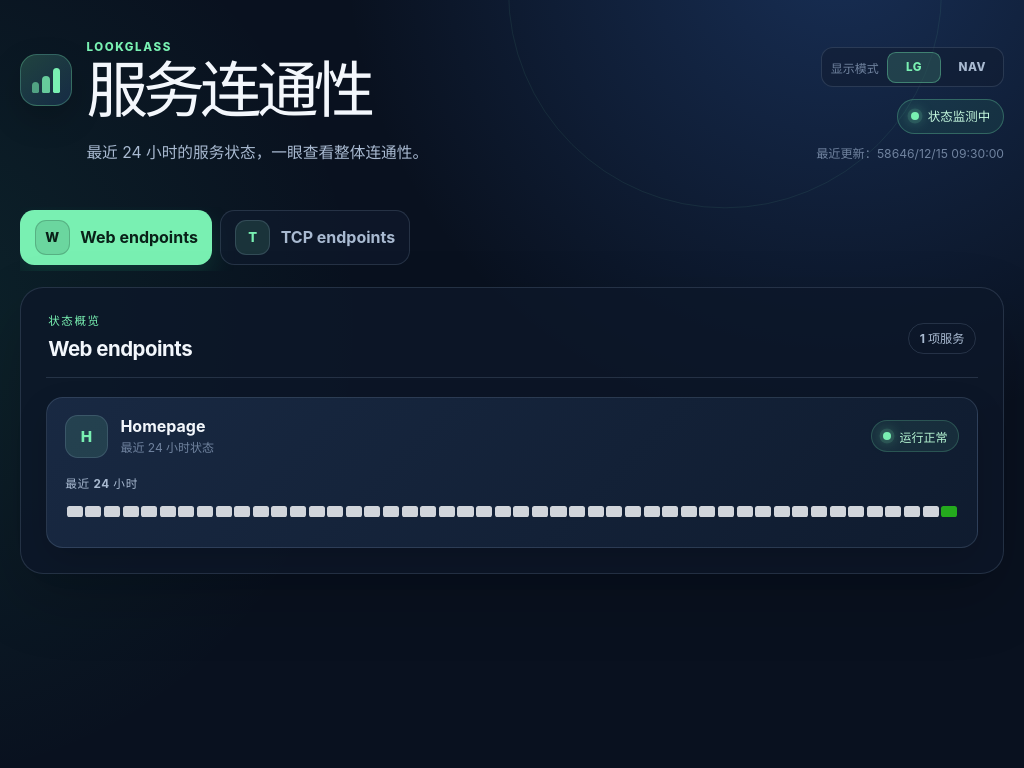
Test: DashboardPage › renders panel tabs and keeps tab changes on the R2-only path
The width and height of the screenshot is (1024, 768).
Expected: the tab "W Web endpoints" is shown, [20,210,212,265]
Click the tab "T TCP endpoints": (315, 237) [220,210,410,265]
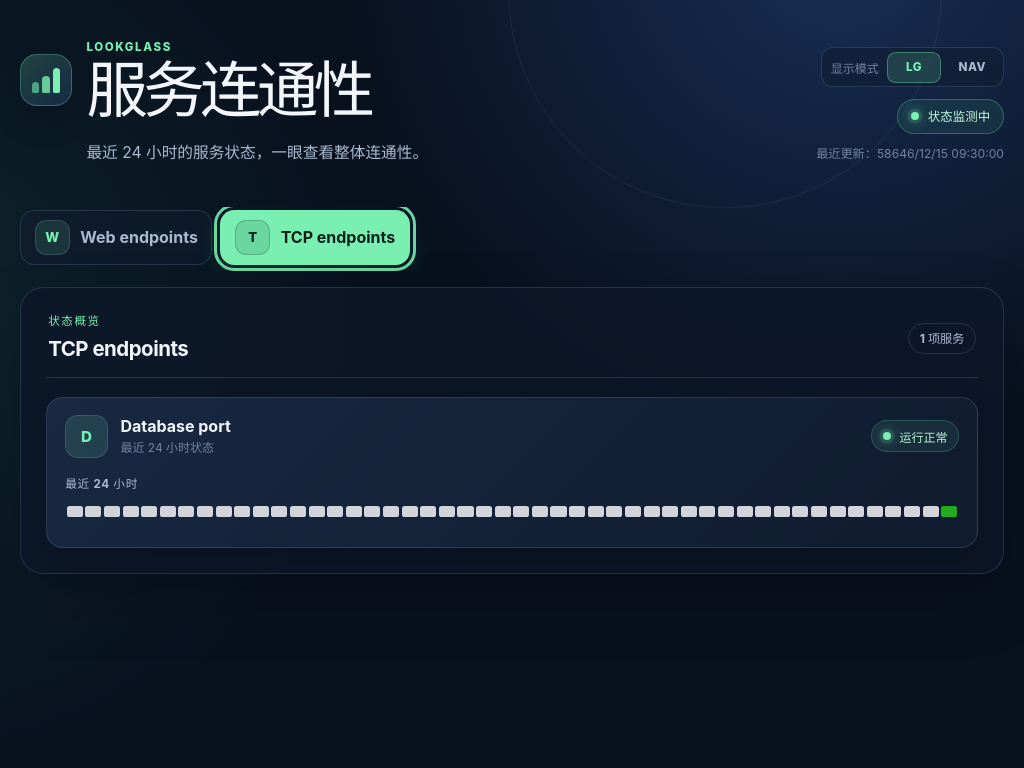
Expected: the heading "Database port" is shown, [120,416,231,436]
